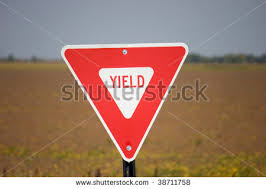yield_sign: (60, 44, 189, 162)
